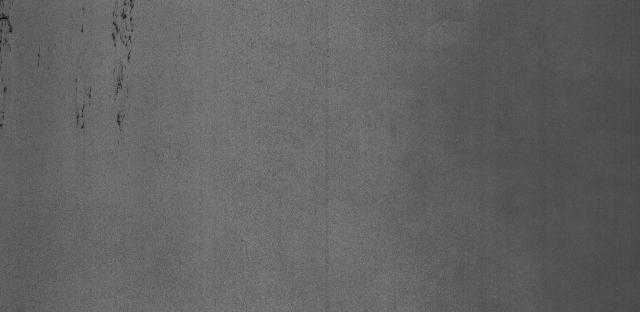inclusion: (101, 0, 145, 122), (0, 0, 15, 120), (69, 74, 97, 128)
